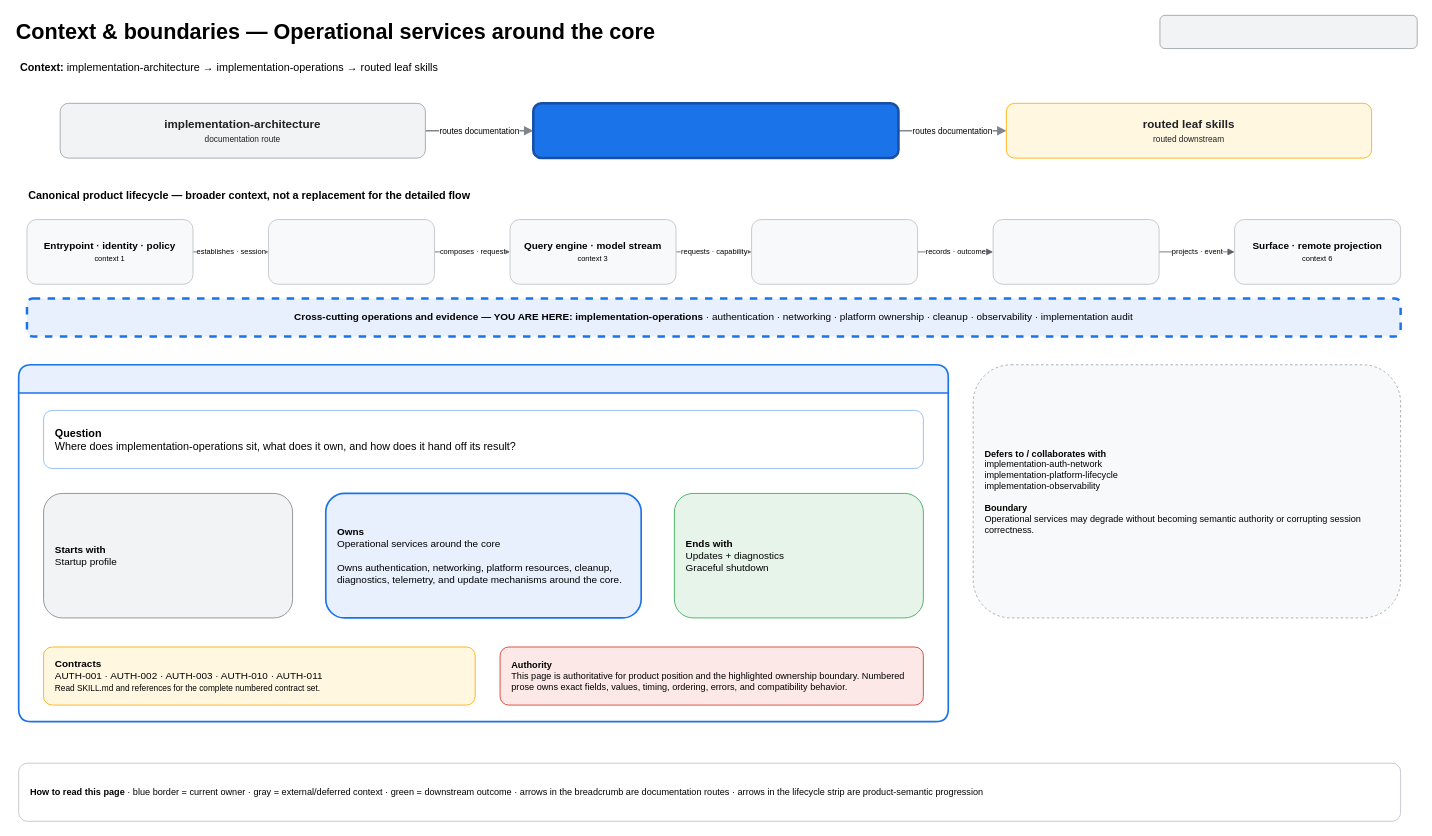
Image size: 1432x836. Some labels were removed from this diagram. The shapes that lost their labels are listed below. From the top down, each one's box as (x1, y1, x2, y2) in pixels, then its label:
(1159, 15, 1417, 49): architecture overview · template 2.0-context-flow
(532, 102, 899, 159): implementation-operations YOU ARE HERE
(268, 219, 435, 284): Session state · registries · context context 2
(751, 219, 918, 284): Capability decision · execution context 4
(992, 219, 1159, 284): Transcript · tasks · continuity context 5
(17, 364, 949, 722): CURRENT OWNERSHIP BOUNDARY
